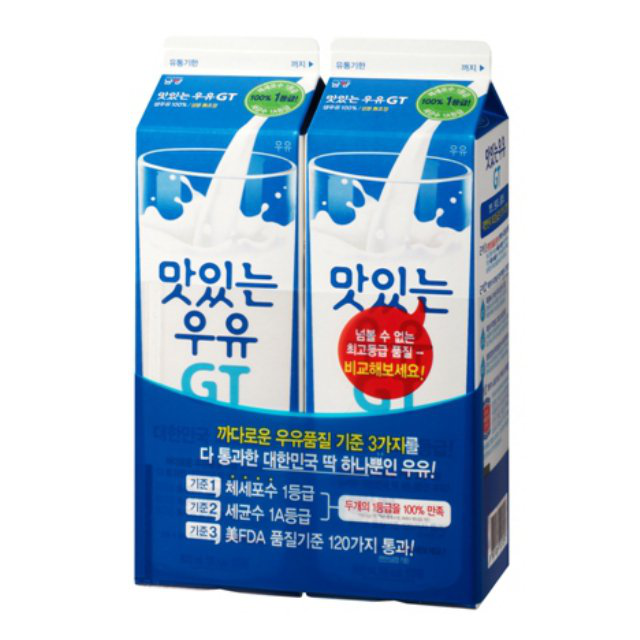milk: (139, 33, 504, 420)
